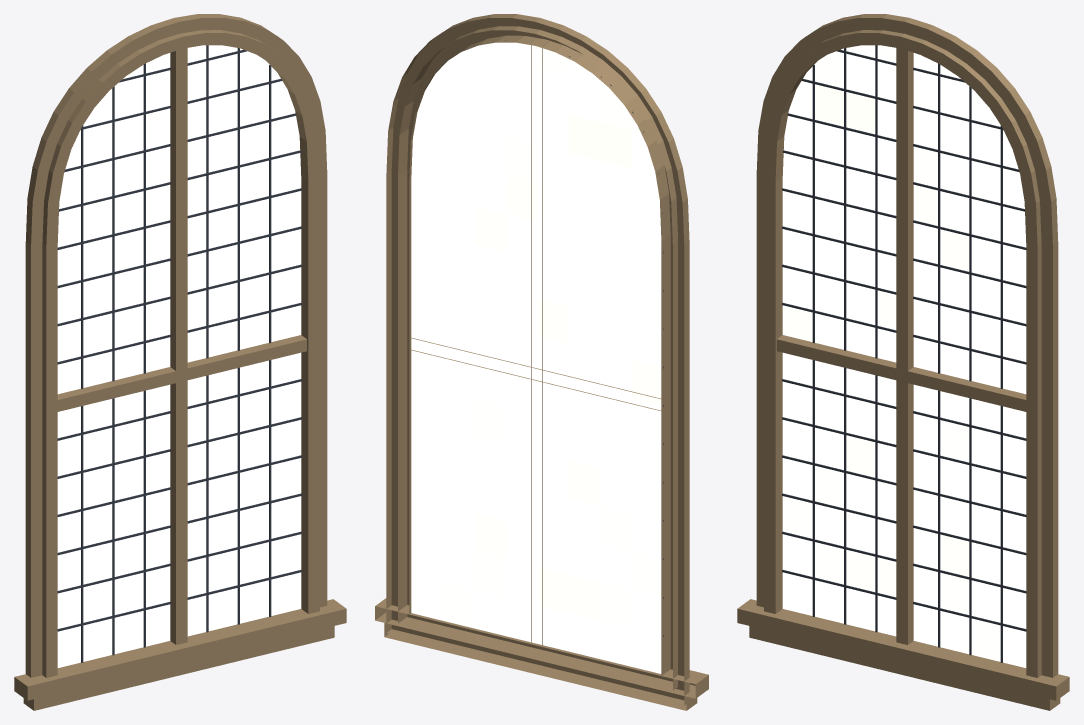
File: window_2_2x5.glb
3 renders of one model, left to right at view 1: azimuth 30°, elevation 25°; view 2: azimuth 150°, elevation 25°; view 3: azimuth 330°, elevation 25°, orthographic.
Visible parts, largest first — view 1: window_2_2x5; view 2: window_2_2x5; view 3: window_2_2x5.
Boxes of the visible parts, box(x1,y1,x2,y2) form: window_2_2x5: box(14, 14, 346, 710); window_2_2x5: box(375, 14, 708, 710); window_2_2x5: box(737, 14, 1069, 710).
Bounding box in the file's own units: 2.8 × 5.44 × 0.2.
